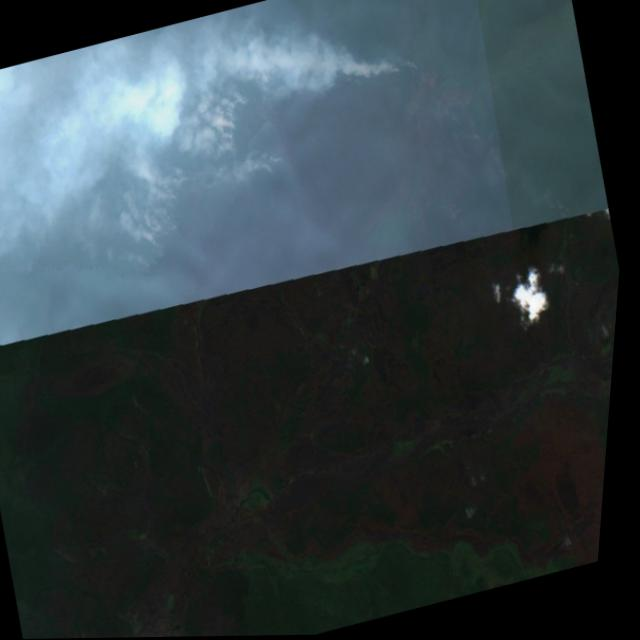fire: (103, 0, 521, 297)
